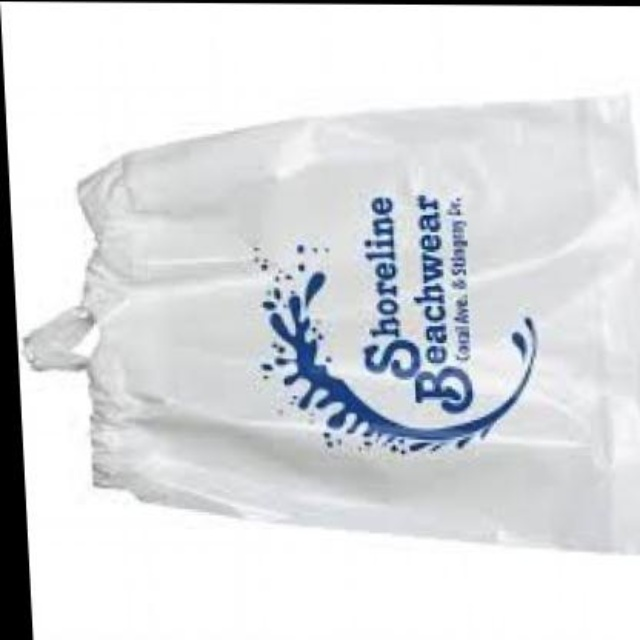trash: (25, 98, 638, 551)
